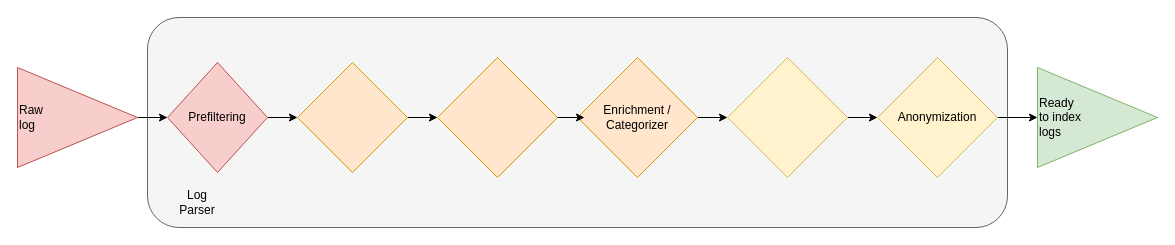
The diagram is 1175 pixels wide and 245 high, and some of its shapes have lost their labels. The centre of each missing label's shape, as x and y in pixels:
"Agregation" belongs at point 787,117.
"Parsing" belongs at point 352,117.
"Post filtering" belongs at point 497,117.
